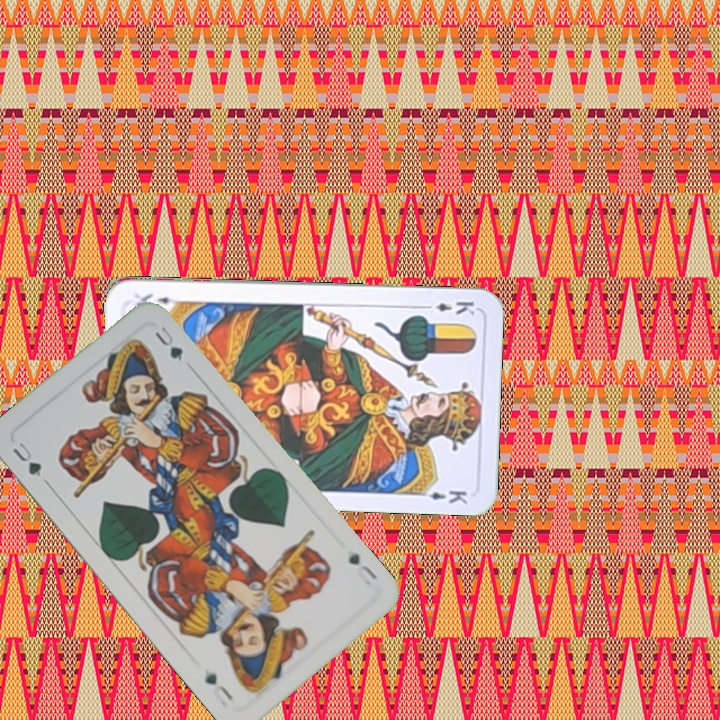EK: (418, 297, 477, 317)
GU: (8, 438, 51, 487), (344, 549, 381, 583)
